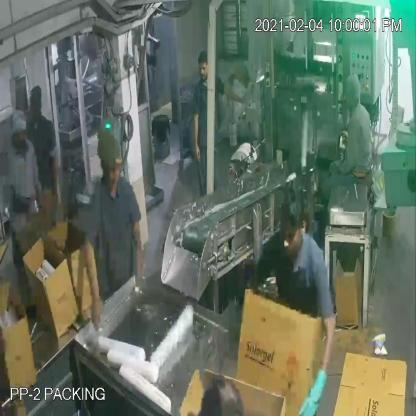glove: (290, 348, 335, 416)
no_glove: (81, 219, 107, 337), (128, 205, 148, 280), (220, 79, 256, 111), (190, 103, 205, 170)
